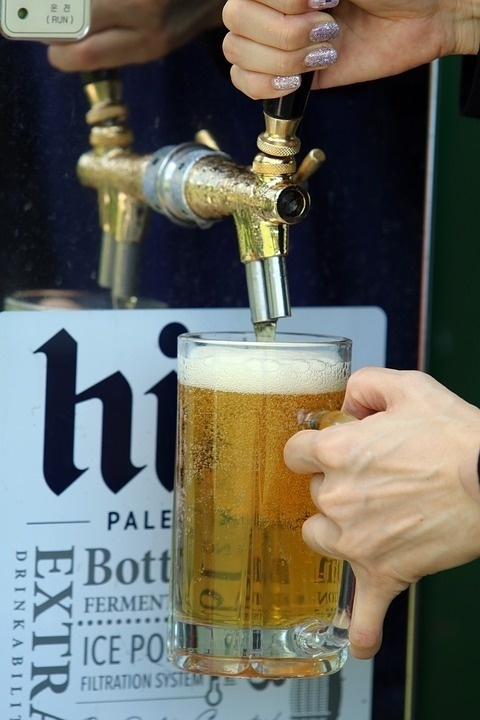whiskey: (155, 331, 371, 668)
